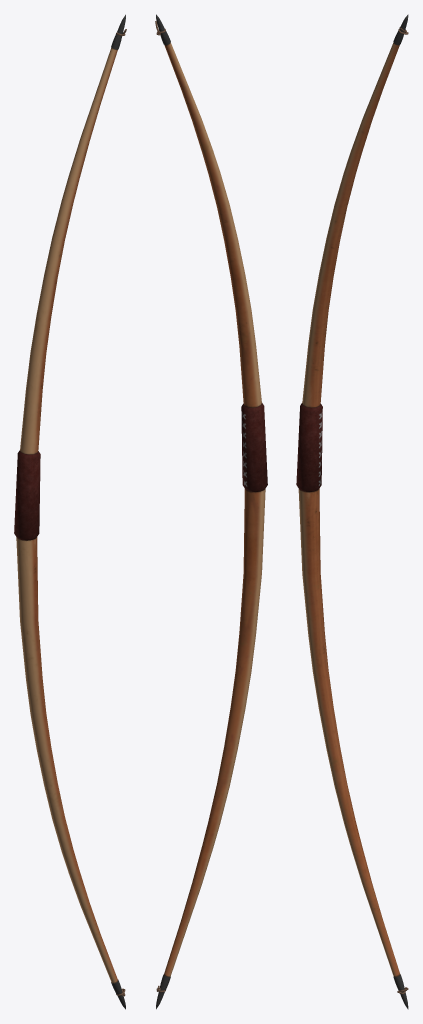
The model's file is Bow.fbx.
3 views of the same model, side by side, from view 1: azimuth 30°, elevation 25°; view 2: azimuth 210°, elevation 25°; view 3: azimuth 330°, elevation 25° (orthographic).
Visible parts, largest first — view 1: English Long Bow; view 2: English Long Bow; view 3: English Long Bow.
Part boxes in pixels (x1,y1,x2,y2): English Long Bow: (14, 14, 126, 1009); English Long Bow: (155, 14, 267, 1009); English Long Bow: (296, 14, 408, 1009).
Size of the model in its own units: 22.11 by 191 by 4.39.
1 material, 1 textured.
